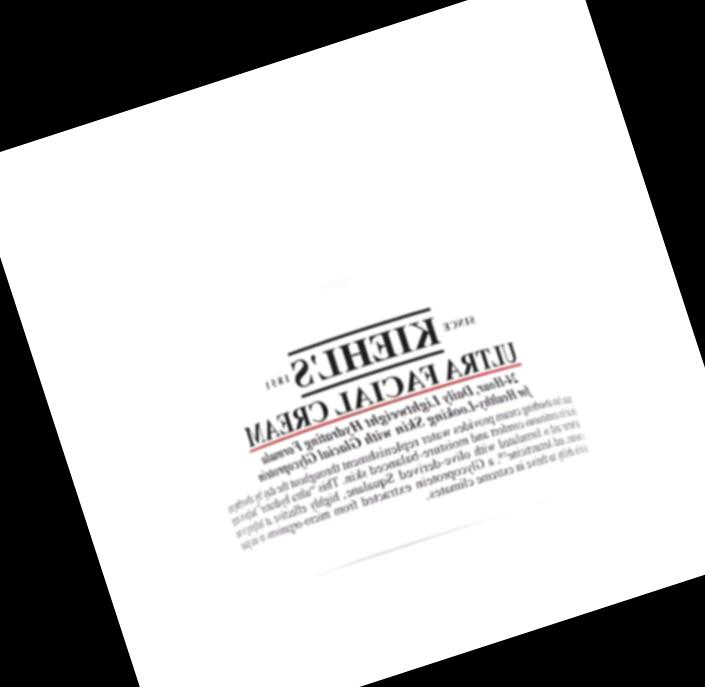cosmetic: (157, 185, 610, 597)
